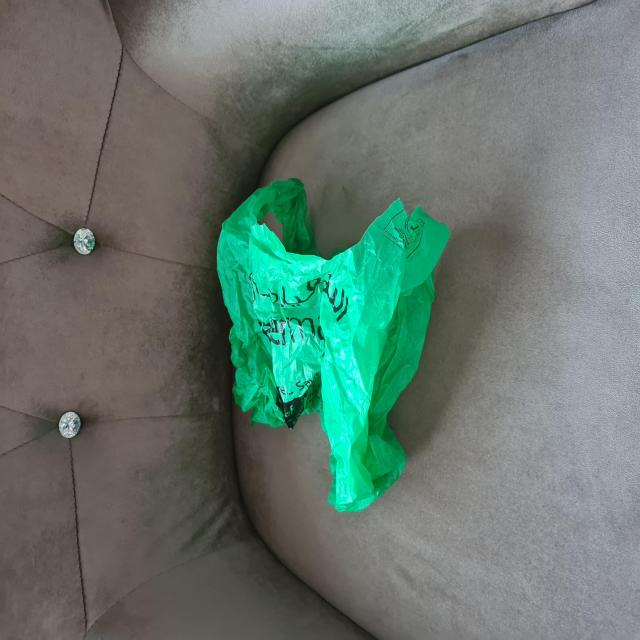plastic bag: (214, 175, 451, 516)
